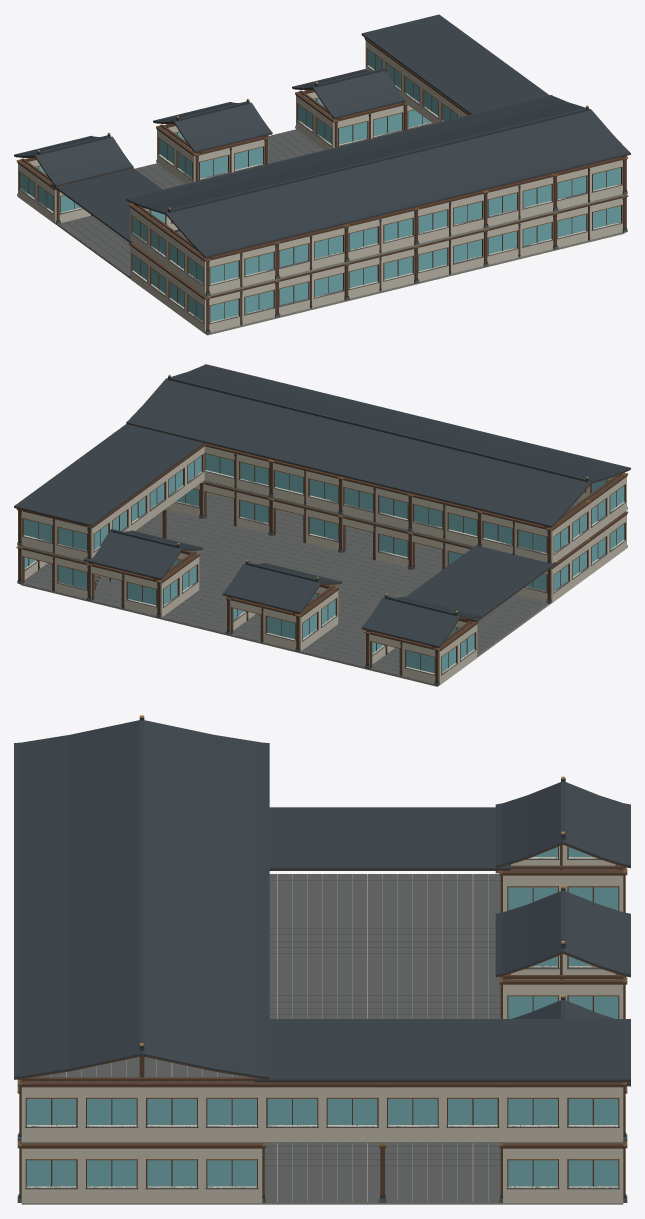
File: visual-far.glb
3 views of the same model, one above another, from view 1: azimuth 30°, elevation 25°; view 2: azimuth 150°, elevation 25°; view 3: azimuth 270°, elevation 25° (orthographic). The views are drawn at different scales.
Visible parts, largest first — view 1: 参数墙 · 独立窗玻璃 (×25), 连续屋面 · gable (×4), 连续屋面 · flat (×2), 石铺面与混凝土楼板 (×4); view 2: 连续屋面 · gable (×4), 参数墙 · 独立窗玻璃 (×16), 石铺面与混凝土楼板 (×21), 连续屋面 · flat (×2), 参数墙 · 通行门洞 (×10); view 3: 连续屋面 · gable (×4), 参数墙 · 独立窗玻璃 (×12), 石铺面与混凝土楼板 (×10), 连续屋面 · flat (×2).
Boxes of the visible parts, box(x1,y1,x2,y2) form: 参数墙 · 独立窗玻璃 (×25): box(17, 38, 624, 333); 连续屋面 · gable (×4): box(14, 68, 630, 258); 连续屋面 · flat (×2): box(51, 14, 549, 243); 石铺面与混凝土楼板 (×4): box(57, 129, 324, 277); 连续屋面 · gable (×4): box(83, 364, 630, 648); 参数墙 · 独立窗玻璃 (×16): box(21, 443, 627, 684); 石铺面与混凝土楼板 (×21): box(20, 498, 549, 686); 连续屋面 · flat (×2): box(14, 424, 556, 622); 参数墙 · 通行门洞 (×10): box(21, 482, 547, 683); 连续屋面 · gable (×4): box(14, 715, 630, 1086); 参数墙 · 独立窗玻璃 (×12): box(21, 845, 623, 1203); 石铺面与混凝土楼板 (×10): box(29, 874, 502, 1204); 连续屋面 · flat (×2): box(254, 807, 630, 1082).
Size of the model in its own units: 42 by 9.48 by 32.8.
14 materials, 14 textured.
